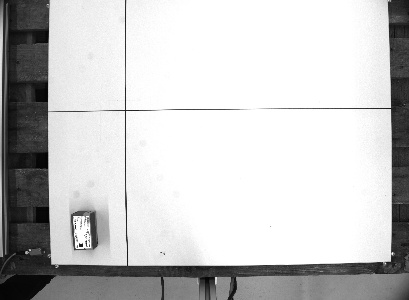b3: (69, 209, 100, 252)
